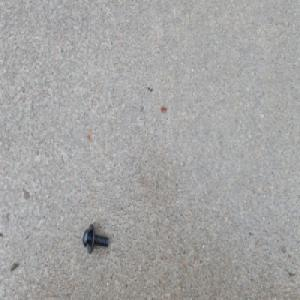BoltWasher: (82, 222, 109, 253)
